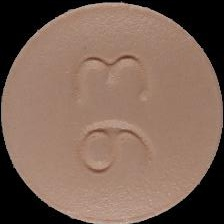45802-425: (0, 0, 224, 224)
